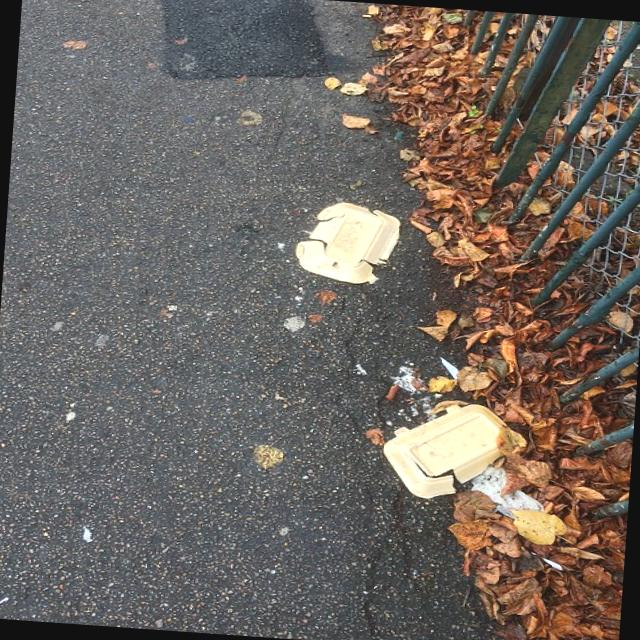Trash: (385, 396, 530, 506), (294, 192, 408, 290), (468, 465, 550, 522), (390, 357, 437, 398), (278, 308, 312, 335), (538, 550, 572, 573)
